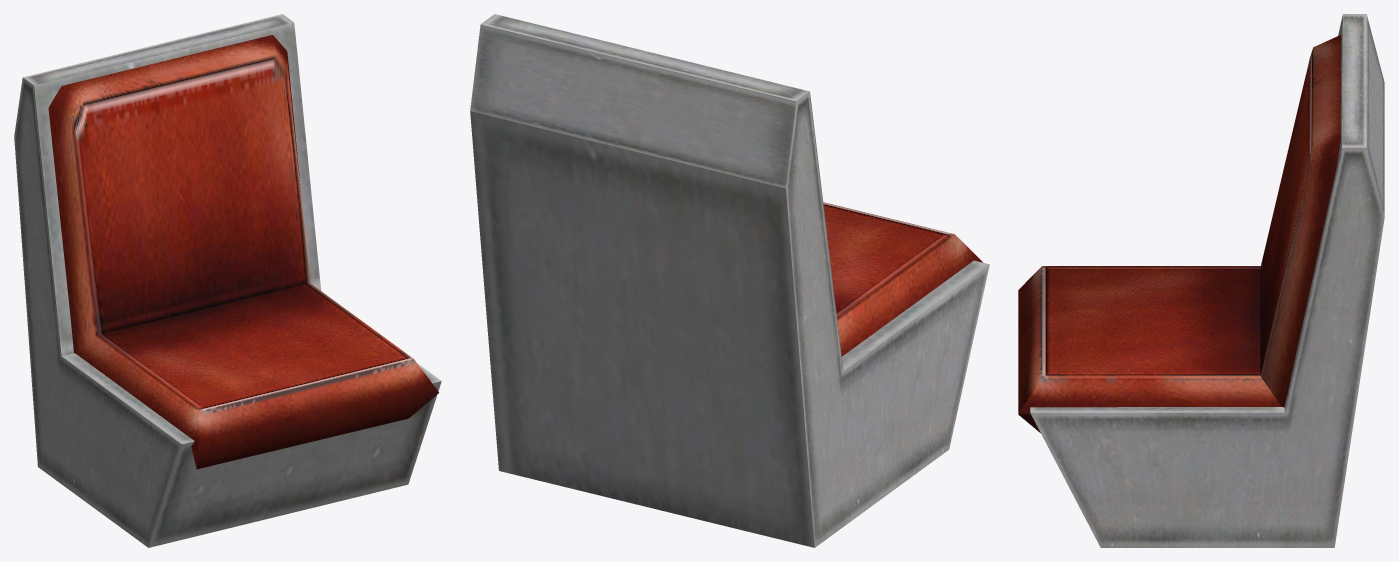
File: frn_all_plan_chair_s01.fbx
3 views of the same model, side by side, from view 1: azimuth 30°, elevation 25°; view 2: azimuth 150°, elevation 25°; view 3: azimuth 270°, elevation 25° (orthographic). The views are drawn at different scales.
Visible parts, largest first — view 1: mesh_node; view 2: mesh_node; view 3: mesh_node.
Boxes of the visible parts, box(x1,y1,x2,y2) form: mesh_node: box(14, 14, 441, 547); mesh_node: box(470, 14, 989, 547); mesh_node: box(1018, 14, 1384, 547).
Bounding box in the file's own units: 0.719 × 1 × 0.8313.
